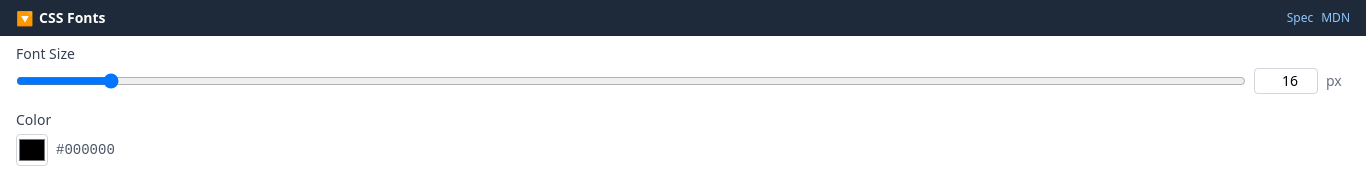
Scenario: CategorySection › ヘッダークリックで折りたたみできる
Click the heading "▶ CSS Fonts Spec MDN": (72, 18) [0,0,1365,36]
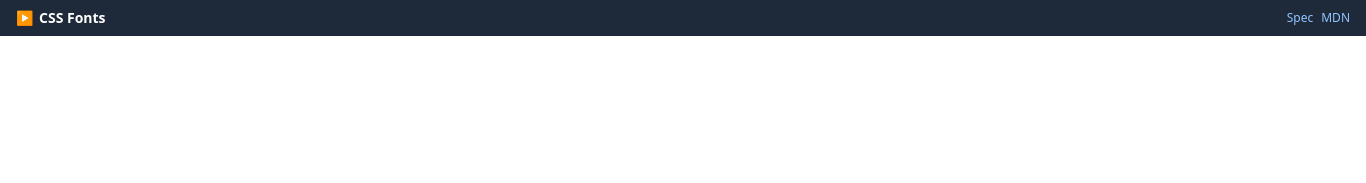
Expected: the text "Font Size" is gone
